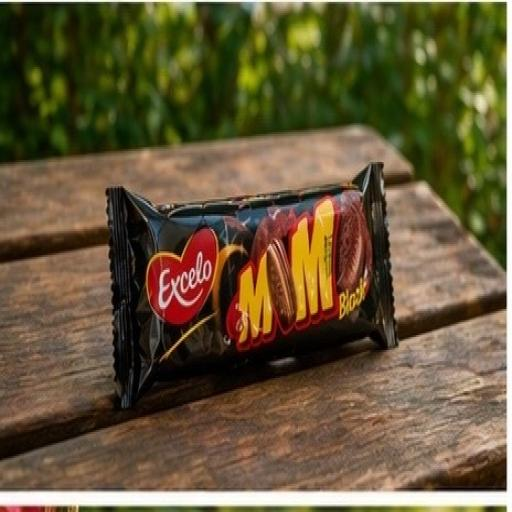MOMO: (66, 123, 420, 439)
